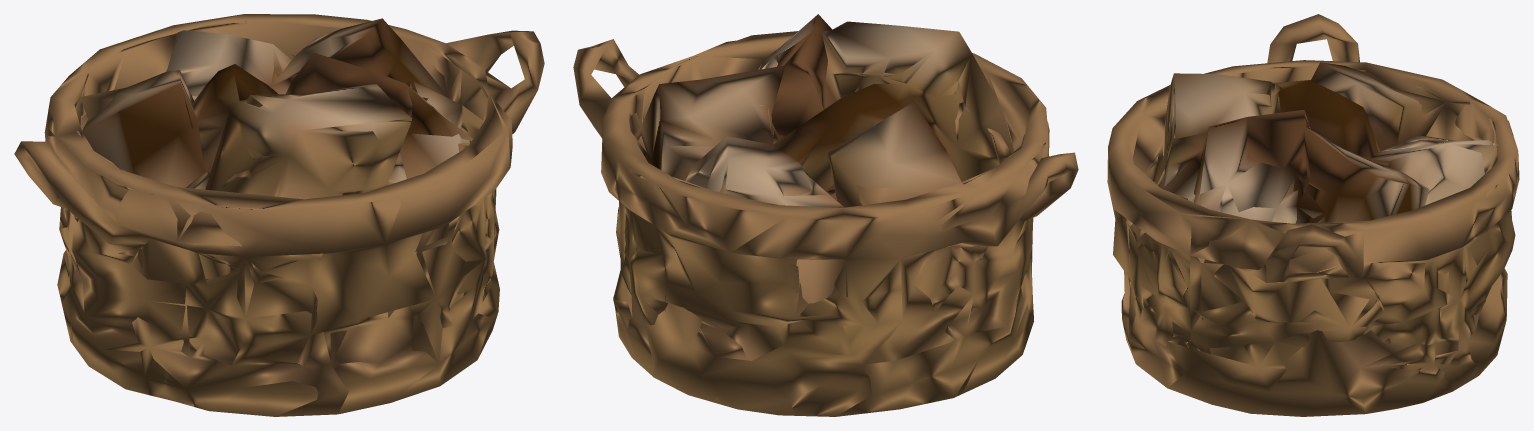
Rendered from gen3d-firewood-basket-lod0.glb.
3 views of the same model, side by side, from view 1: azimuth 30°, elevation 25°; view 2: azimuth 150°, elevation 25°; view 3: azimuth 270°, elevation 25° (orthographic). The views are drawn at different scales.
Parts seen in each view (by area): view 1: part_0; view 2: part_0; view 3: part_0.
Boxes of the visible parts, x1,y1,x2,y2 form: part_0: [14, 14, 544, 416]; part_0: [573, 14, 1078, 416]; part_0: [1107, 14, 1519, 416].
Bounding box in the file's own units: 1.92 × 1 × 1.52.
